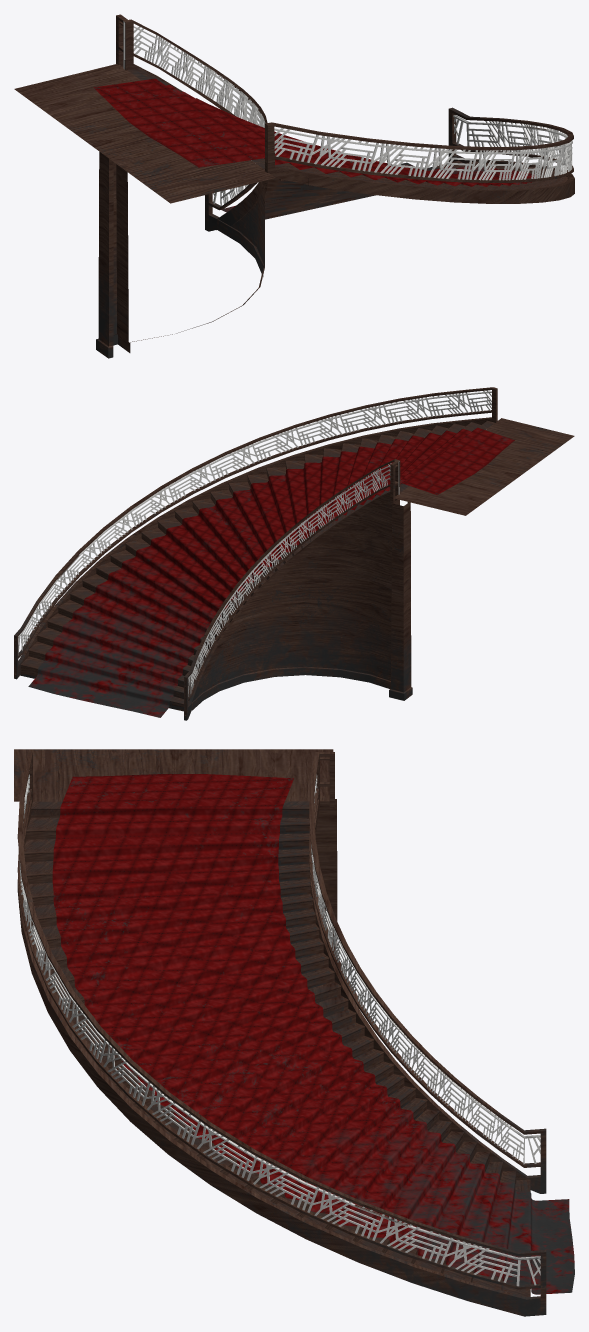
Rendered from Mod_CurvedStairs_A_low.fbx.
The picture shows the model from 3 angles, top to bottom: view 1: azimuth 30°, elevation 25°; view 2: azimuth 150°, elevation 25°; view 3: azimuth 270°, elevation 25°; orthographic projection. The views are drawn at different scales.
Parts seen in each view (by area): view 1: Mod_CurvedStairs_A_Low; view 2: Mod_CurvedStairs_A_Low; view 3: Mod_CurvedStairs_A_Low.
Boxes of the visible parts, left/top/right/bottom form: Mod_CurvedStairs_A_Low: left=14, top=14, right=574, bottom=358; Mod_CurvedStairs_A_Low: left=14, top=387, right=574, bottom=720; Mod_CurvedStairs_A_Low: left=14, top=749, right=574, bottom=1316.
Size of the model in its own units: 1223 by 716 by 1054.
1 material, 1 textured.
